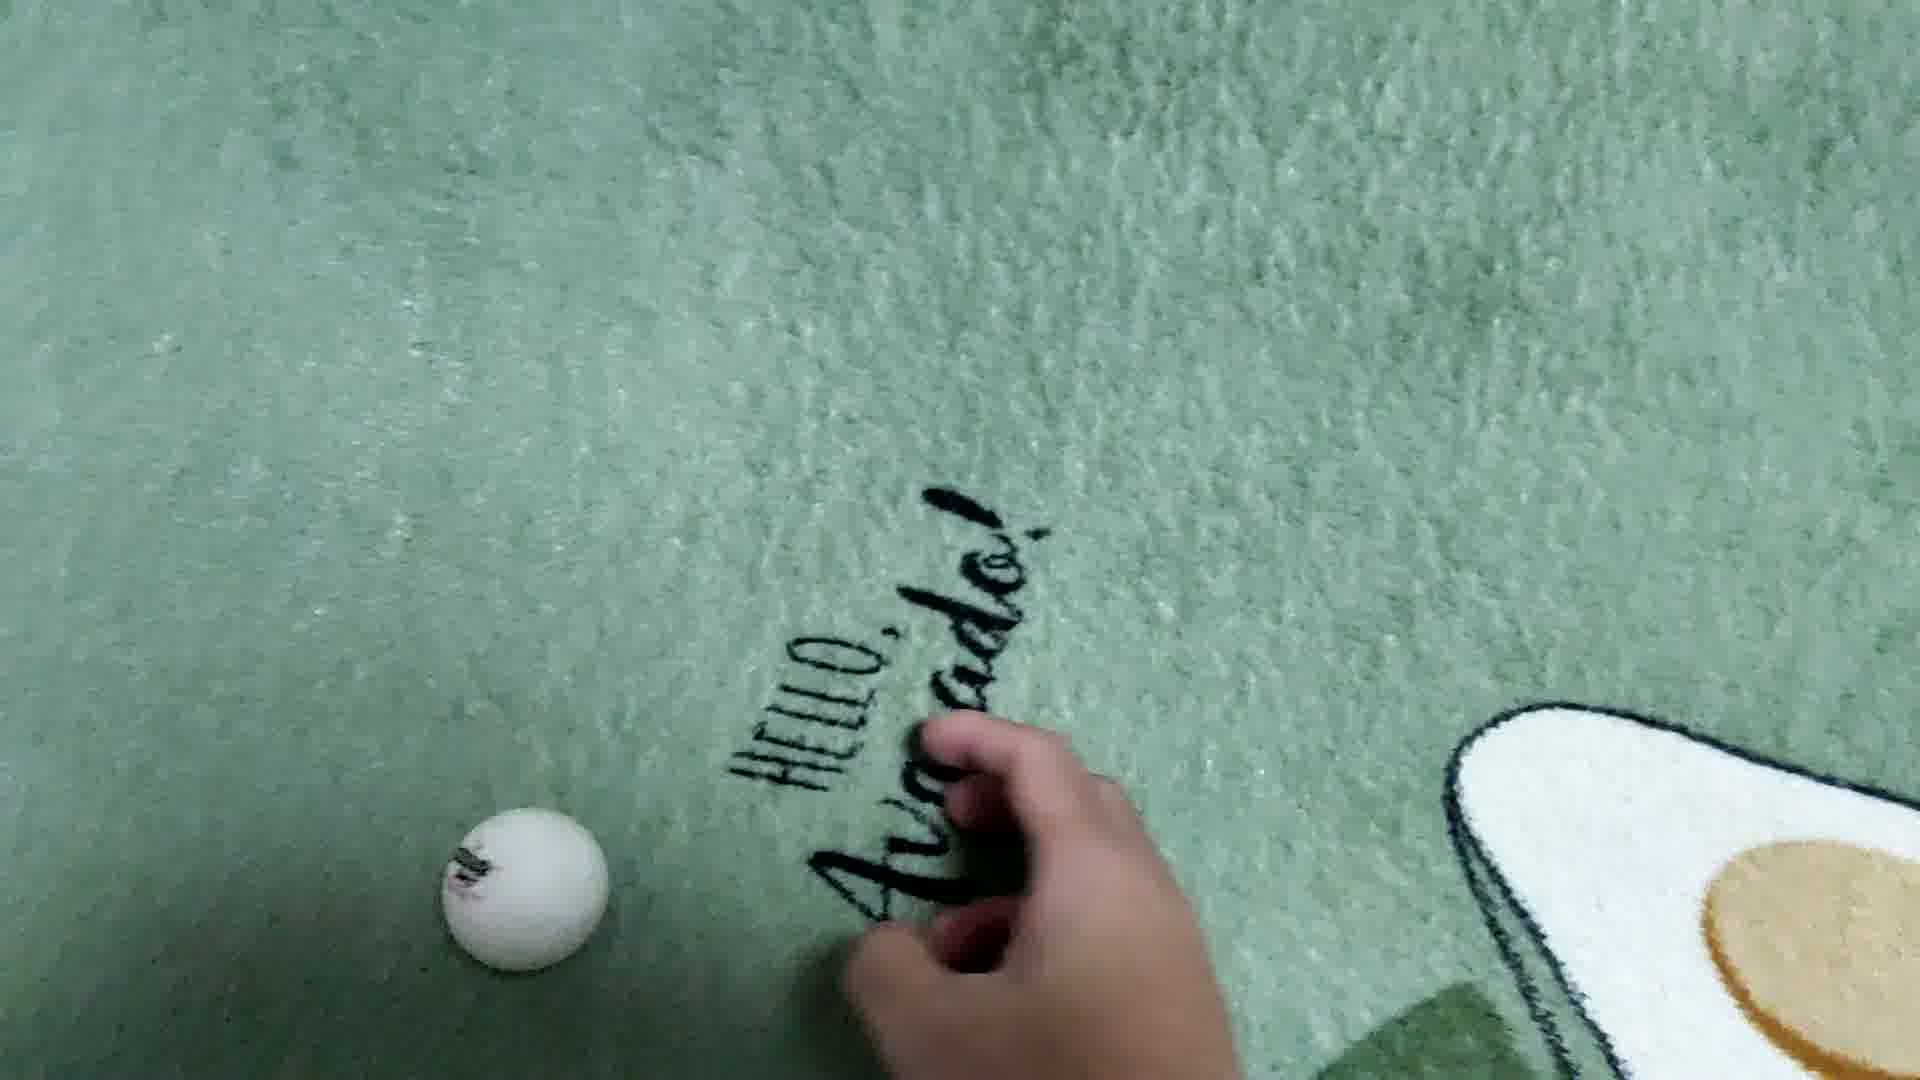Ball: (443, 800, 609, 971)
